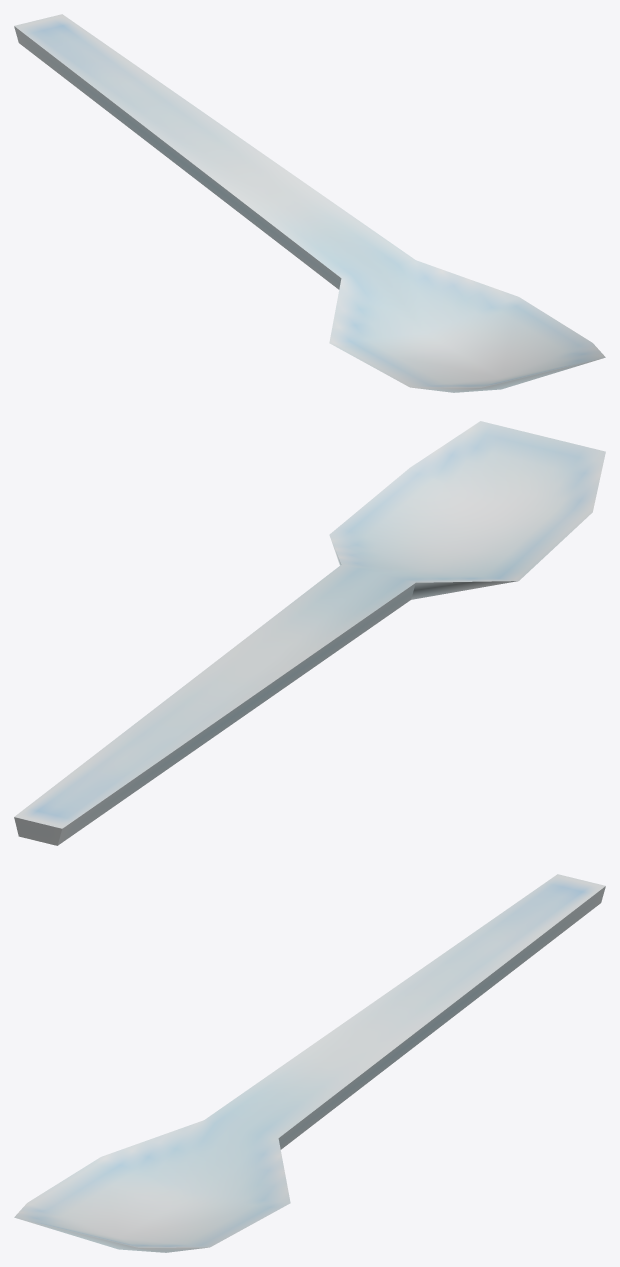
The model's file is jsf_PlasticSpoon_01.fbx.
3 renders of one model, top to bottom at view 1: azimuth 30°, elevation 25°; view 2: azimuth 150°, elevation 25°; view 3: azimuth 330°, elevation 25°, orthographic.
Parts seen in each view (by area): view 1: jsf_PlasticSpoon_01; view 2: jsf_PlasticSpoon_01; view 3: jsf_PlasticSpoon_01.
Part boxes in pixels (<box>): jsf_PlasticSpoon_01: <box>14,14,605,392</box>; jsf_PlasticSpoon_01: <box>14,421,605,845</box>; jsf_PlasticSpoon_01: <box>14,874,605,1252</box>.
Size of the model in its own units: 2.17 by 0.6411 by 10.
